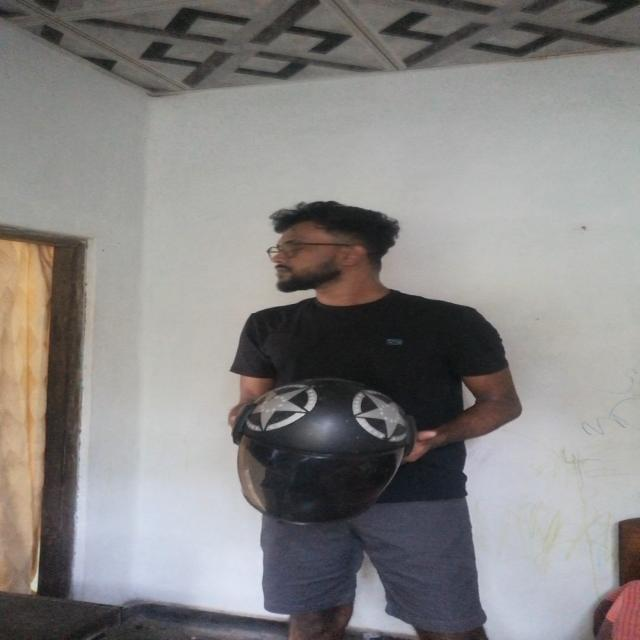Person: (202, 199, 542, 640)
